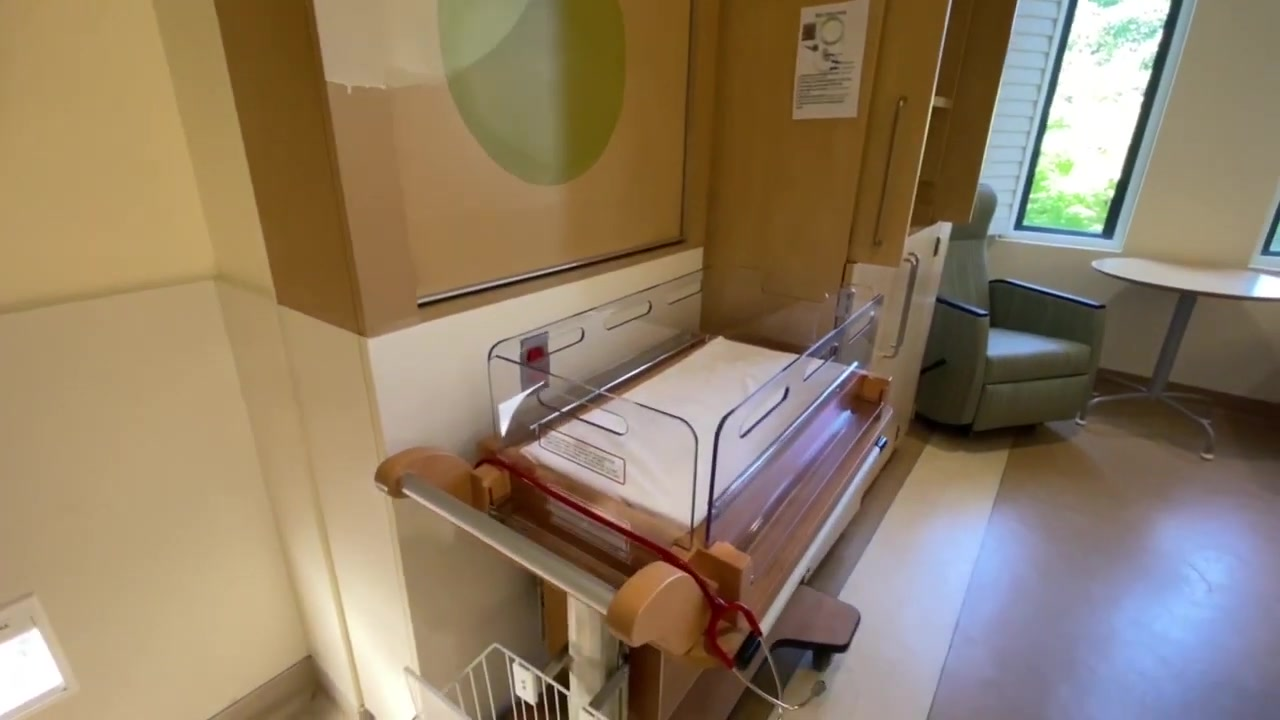handle: (868, 94, 908, 245), (882, 250, 922, 359)
sofa: (915, 182, 1106, 438)
table: (1075, 255, 1280, 460)
